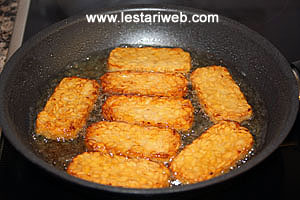Tempe: (179, 120, 263, 181), (75, 151, 175, 189), (87, 45, 201, 76), (186, 68, 247, 120), (40, 75, 98, 129), (105, 95, 183, 121), (96, 124, 166, 151), (113, 76, 185, 99)
